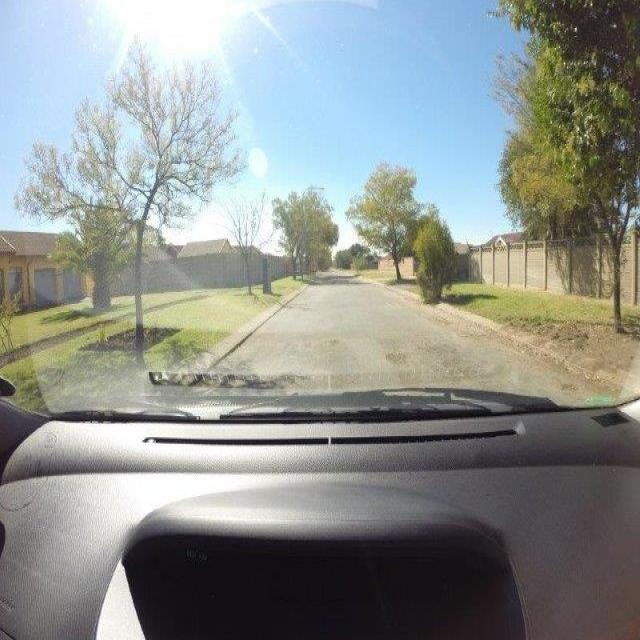lubang: (558, 374, 583, 397), (384, 348, 409, 368), (324, 334, 344, 348)
